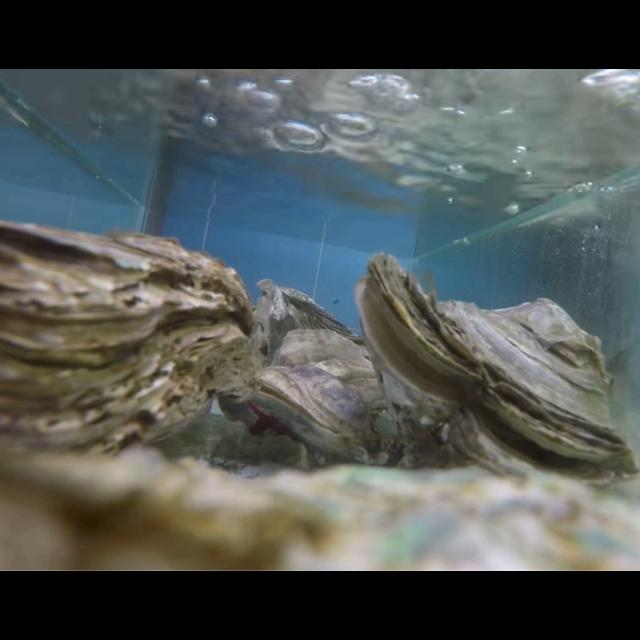Oyster-Closed: (0, 444, 640, 572), (0, 222, 256, 474), (254, 278, 370, 369)
Oyster-Open: (354, 253, 640, 495), (249, 330, 406, 470)
